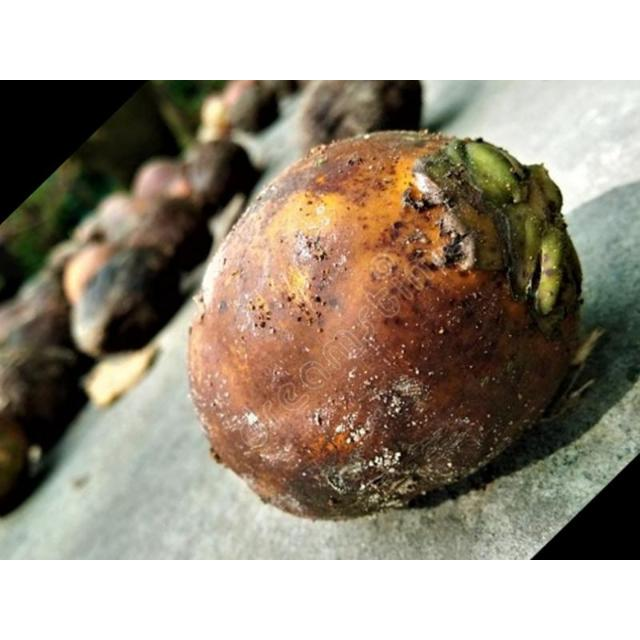damaged: (188, 132, 582, 517)
